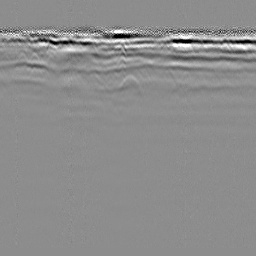cavity: (118, 72, 141, 91)
